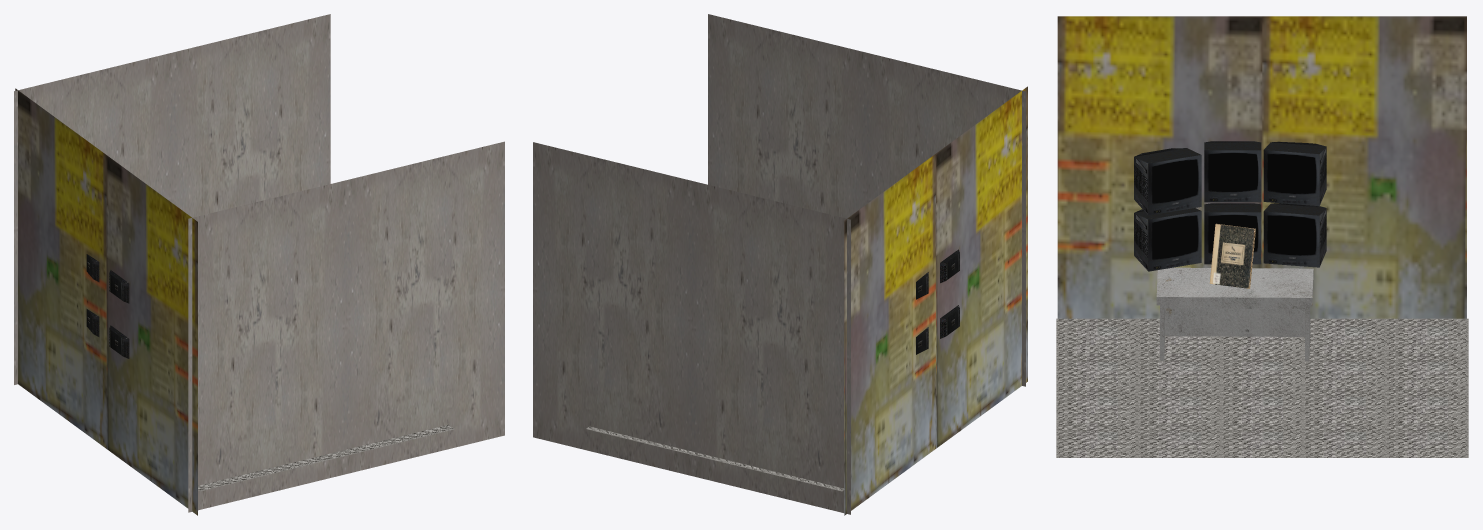
Rendered from control_room.glb.
The picture shows the model from 3 angles, left to right: view 1: azimuth 30°, elevation 25°; view 2: azimuth 150°, elevation 25°; view 3: azimuth 270°, elevation 25°; orthographic projection. The views are drawn at different scales.
Visible parts, largest first — view 1: Plane.002, Plane.001, Plane.003, Plane; view 2: Plane.003, Plane.001, Plane.002, Plane; view 3: Plane.001, Plane, Cube.191, TV.005, TV.002, TV.001, TV.004, TV.003, Cube, TV.
Boxes of the visible parts, x1,y1,x2,y2 form: Plane.002: (188, 141, 504, 512); Plane.001: (15, 88, 197, 515); Plane.003: (14, 14, 330, 384); Plane: (198, 424, 454, 491); Plane.003: (533, 142, 850, 514); Plane.001: (844, 86, 1027, 515); Plane.002: (708, 14, 1025, 386); Plane: (586, 426, 844, 491); Plane.001: (1057, 16, 1466, 318); Plane: (1056, 318, 1468, 457); Cube.191: (1156, 267, 1313, 361); TV.005: (1134, 148, 1201, 215); TV.002: (1263, 141, 1326, 206); TV.001: (1263, 203, 1326, 267); TV.004: (1134, 208, 1201, 271); TV.003: (1204, 141, 1261, 202); Cube: (1209, 223, 1255, 288); TV: (1204, 203, 1261, 264).
Size of the model in its own units: 13.62 by 12.09 by 13.72.
Materials: 17 (5 with a texture image).
